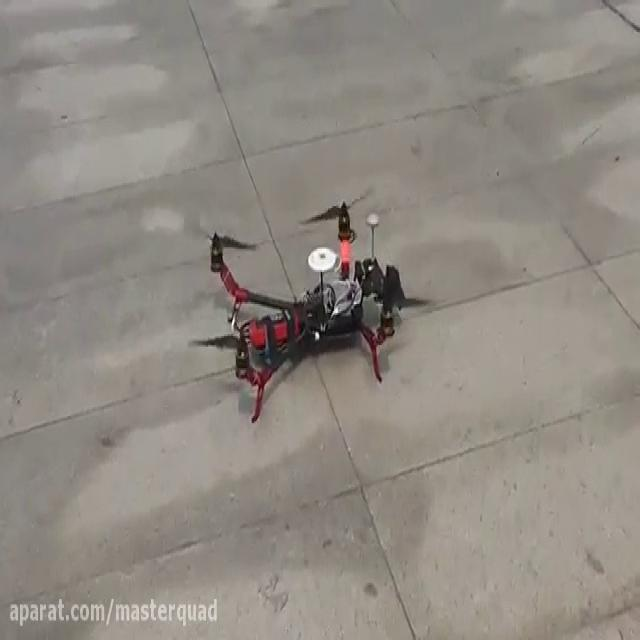drone: (179, 174, 441, 428)
